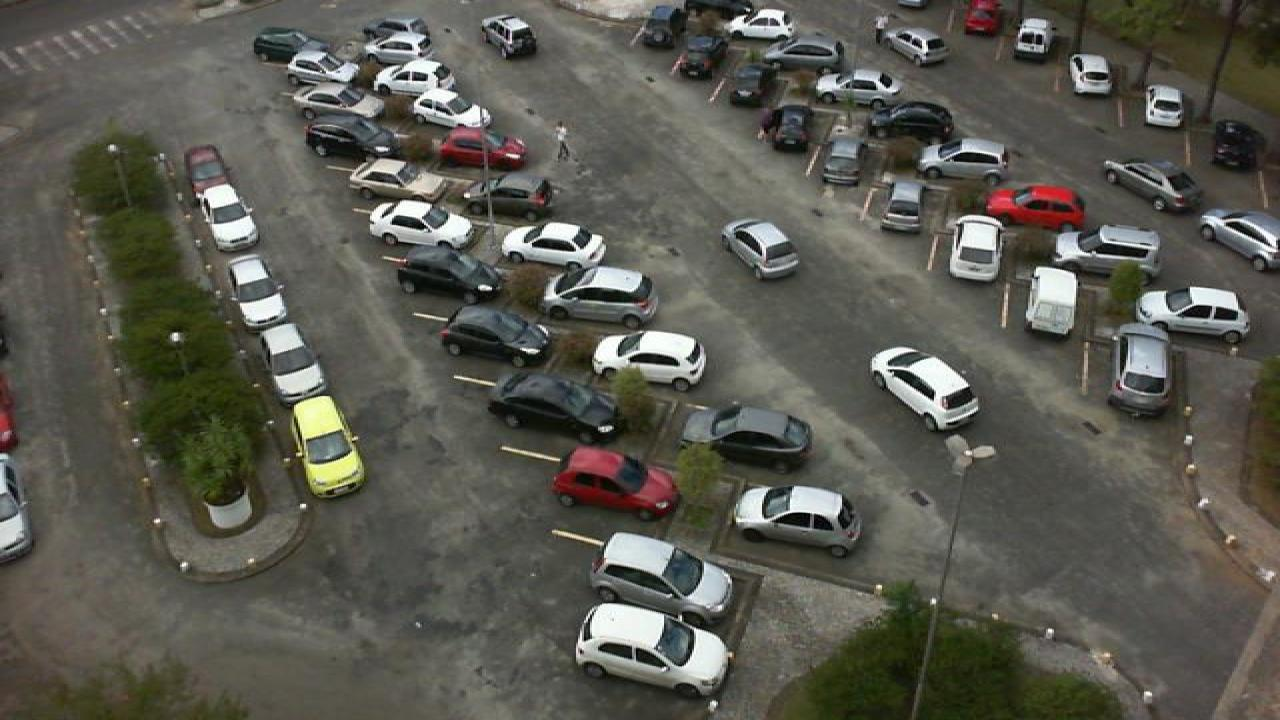Car: (574, 602, 734, 698), (588, 531, 736, 625), (730, 483, 864, 558), (868, 346, 984, 430), (488, 371, 622, 443), (552, 446, 680, 518), (680, 404, 816, 471), (290, 394, 368, 500), (538, 266, 658, 330), (440, 305, 554, 369), (592, 330, 708, 392), (1108, 322, 1180, 419), (1136, 286, 1252, 345), (396, 245, 504, 305), (1052, 224, 1162, 279), (254, 320, 328, 400), (1100, 157, 1204, 211), (500, 221, 612, 271), (368, 199, 474, 251), (984, 182, 1090, 233), (348, 157, 454, 207), (1196, 208, 1280, 271), (222, 254, 290, 330), (720, 218, 802, 280), (460, 172, 556, 223), (202, 183, 264, 253), (432, 125, 528, 170), (1020, 264, 1078, 338), (302, 115, 400, 158), (914, 137, 1008, 181), (948, 214, 1006, 281), (0, 454, 34, 564), (290, 82, 382, 122), (814, 69, 906, 108), (868, 100, 954, 140), (410, 88, 492, 129), (372, 58, 458, 96), (286, 44, 360, 88), (762, 35, 846, 73), (182, 143, 232, 201), (876, 26, 948, 66), (876, 180, 928, 234), (1212, 119, 1266, 171), (758, 101, 812, 152), (254, 27, 328, 62), (480, 14, 538, 57), (672, 34, 728, 78), (730, 8, 796, 43), (820, 136, 864, 186), (362, 35, 430, 65), (1070, 53, 1114, 97), (362, 18, 432, 45), (636, 3, 678, 48), (1144, 84, 1186, 128), (1012, 17, 1054, 61), (964, 0, 1006, 36)
